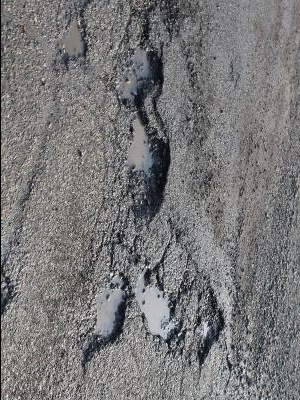pothole: (118, 108, 173, 221), (78, 268, 131, 362), (137, 258, 183, 345), (111, 40, 166, 110), (191, 288, 227, 368), (54, 16, 91, 70), (0, 265, 15, 318)
